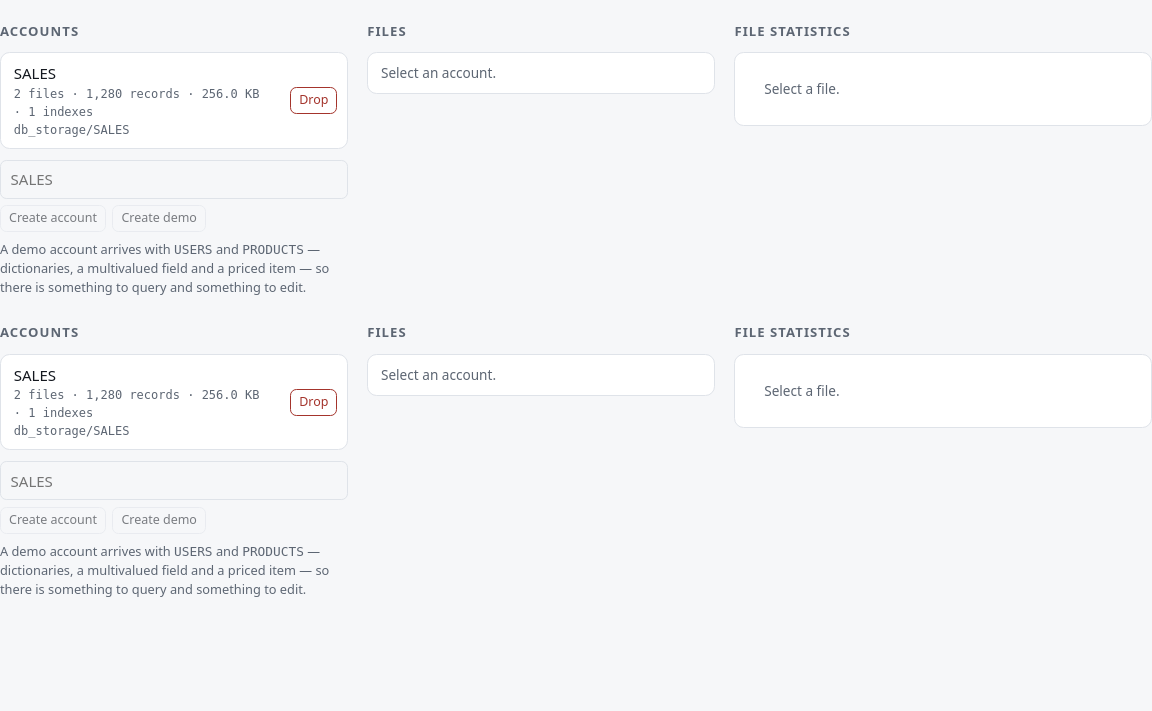
Scenario: the dictionary of a file › appears only once a file is selected, and shows what each field is
Click the 2nd button with class "select".
click(142, 402)  # box x1=1 y1=355 x2=284 y2=449
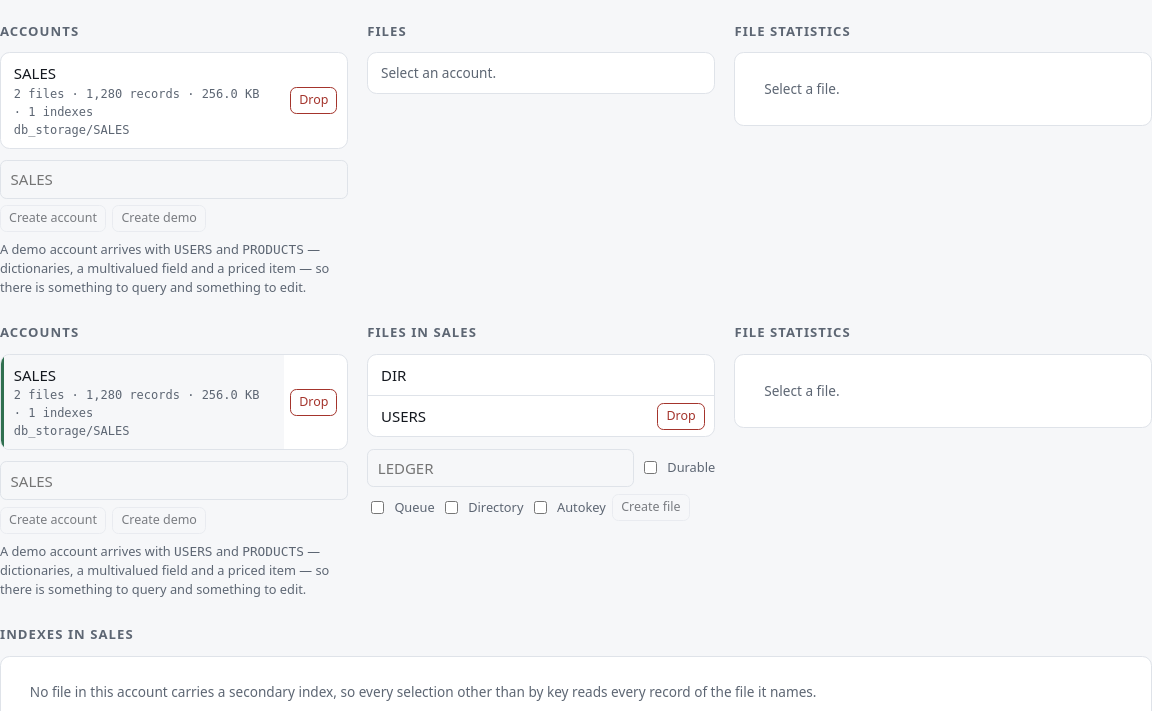
Click the button with class "select" showing "USERS".
click(404, 416)  # box x1=368 y1=396 x2=651 y2=436
(page scrolled)
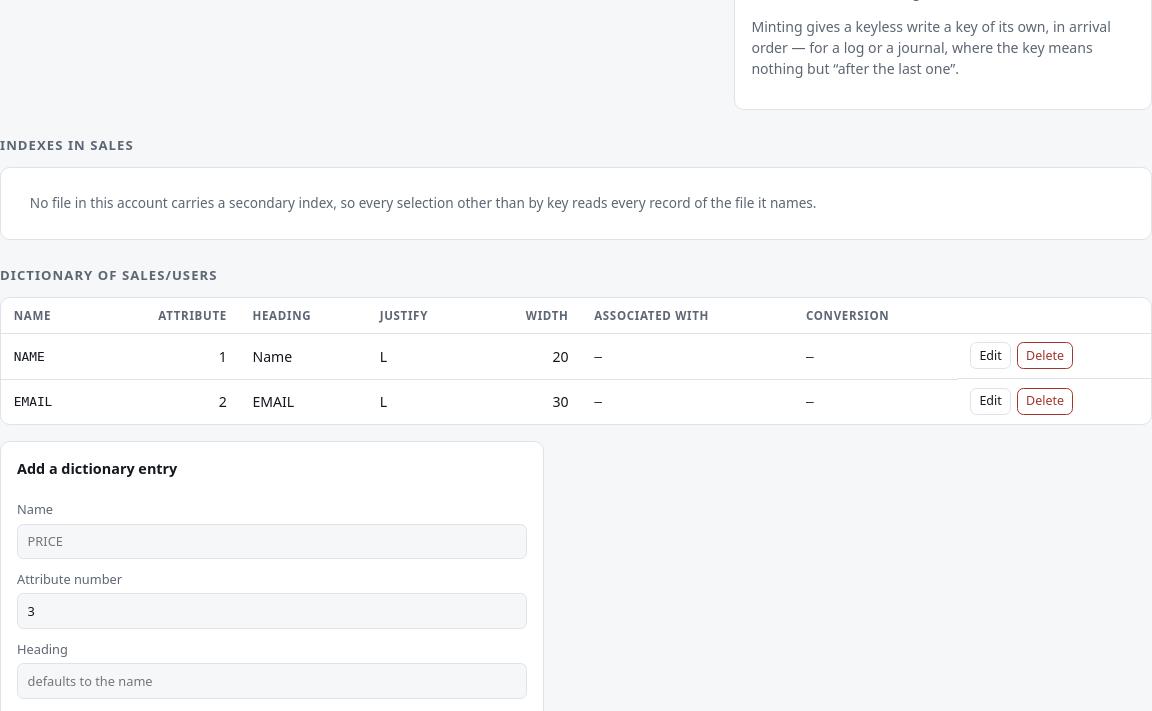
Expected: the text "Dictionary of SALES/USERS" is shown, x1=0 y1=266 x2=218 y2=284
Expected: the cell "NAME" is shown, x1=1 y1=333 x2=98 y2=379
Expected: the cell "1" is shown, x1=98 y1=333 x2=240 y2=379
